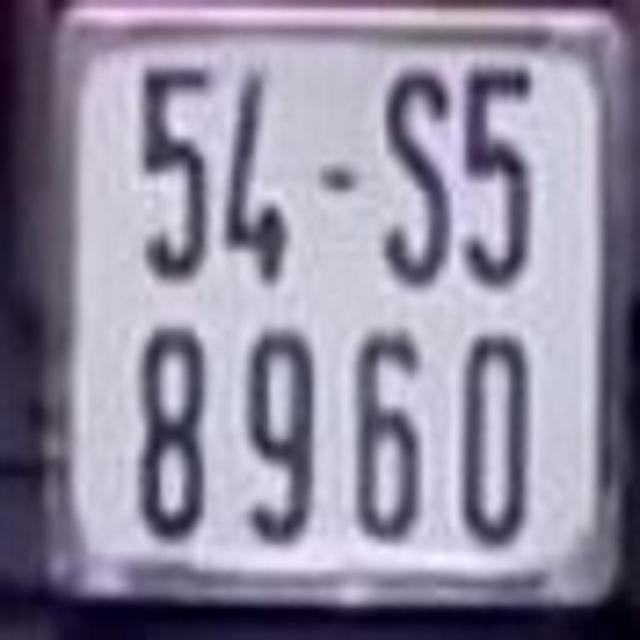0: (457, 323, 531, 544)
4: (220, 55, 294, 288)
5: (130, 58, 210, 287), (459, 59, 536, 295)
6: (350, 322, 422, 540)
8: (136, 319, 203, 540)
9: (244, 322, 314, 540)
S: (374, 56, 454, 295)
